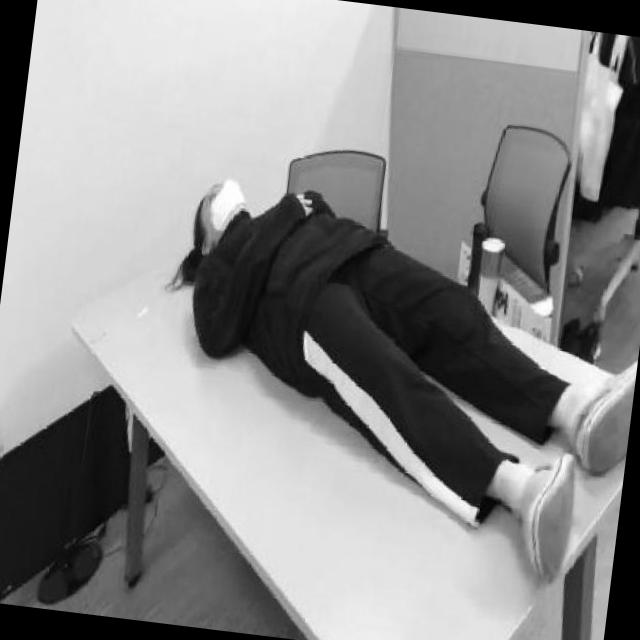person: (139, 164, 640, 593)
